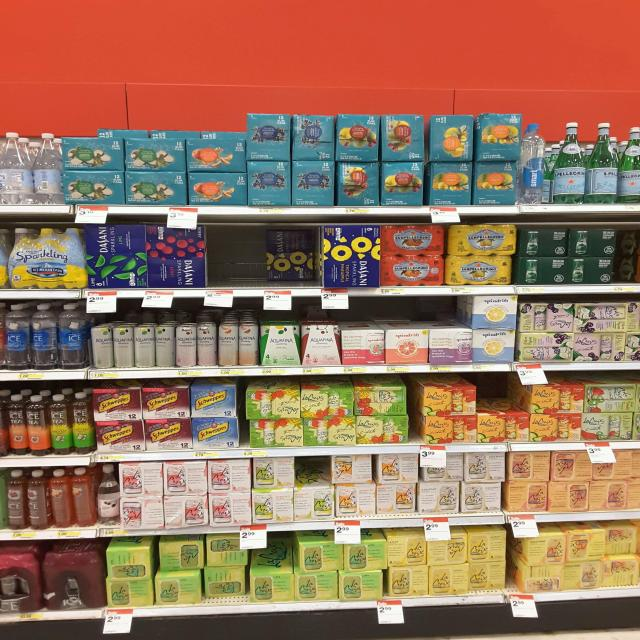empty: (207, 224, 266, 289), (478, 378, 516, 411), (257, 537, 295, 568), (296, 455, 329, 485)
